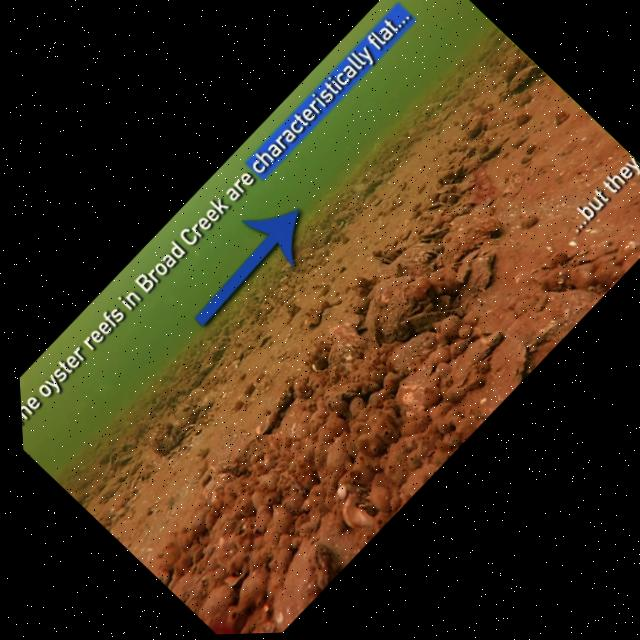Oyster-Closed: (410, 93, 450, 132)
Oyster-Indeterminate: (448, 325, 553, 426), (417, 185, 511, 277), (380, 345, 473, 437), (273, 524, 363, 611), (400, 278, 475, 352), (380, 317, 453, 389), (310, 329, 378, 396), (379, 230, 447, 296), (201, 421, 268, 486), (221, 556, 282, 616), (315, 307, 375, 366), (265, 391, 325, 449), (331, 482, 387, 537), (454, 246, 509, 300), (190, 463, 243, 515), (192, 577, 242, 626), (500, 57, 550, 105), (143, 416, 192, 463), (259, 376, 307, 421), (560, 254, 603, 296), (534, 263, 576, 305), (244, 406, 286, 447), (586, 254, 627, 294), (456, 108, 497, 148), (177, 574, 217, 612), (492, 48, 532, 86), (350, 167, 390, 205), (446, 190, 484, 227), (219, 555, 257, 591), (514, 203, 551, 239), (608, 240, 640, 281), (110, 438, 146, 473), (458, 148, 493, 182), (588, 240, 623, 273), (91, 440, 124, 471), (304, 242, 336, 273), (278, 247, 310, 278), (165, 395, 196, 426), (607, 236, 638, 266), (328, 200, 357, 229), (422, 190, 451, 219), (449, 172, 478, 201), (464, 134, 494, 162), (206, 341, 233, 368), (510, 106, 538, 132), (435, 163, 462, 189), (433, 175, 461, 200), (549, 245, 575, 271), (222, 357, 249, 382), (238, 332, 263, 357), (223, 343, 248, 367), (315, 224, 340, 248), (154, 564, 178, 588), (551, 105, 575, 128), (436, 186, 459, 209), (185, 370, 207, 391), (223, 623, 265, 634), (197, 359, 218, 380), (177, 410, 199, 430), (90, 436, 110, 456), (157, 368, 176, 387), (227, 355, 244, 372)
Oyster-Open: (347, 267, 436, 353), (187, 394, 218, 424), (181, 420, 197, 437)
